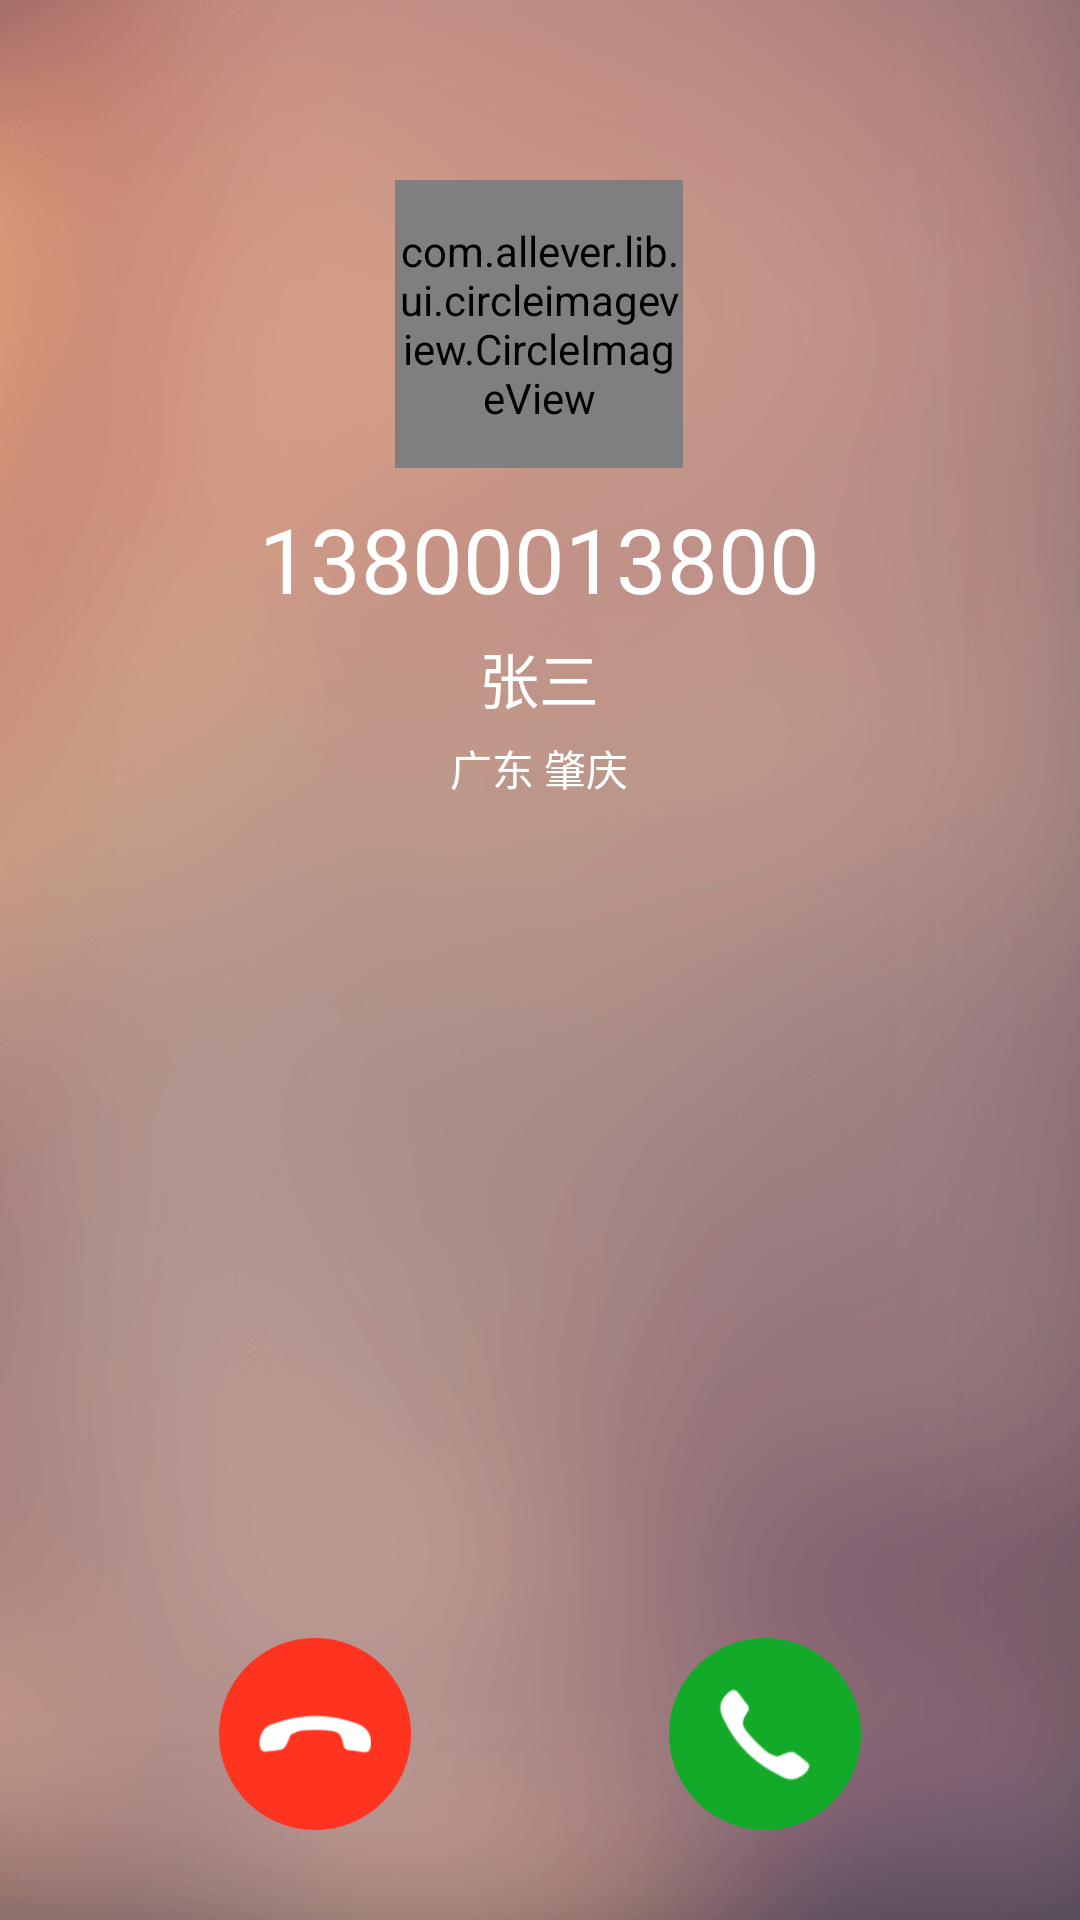

Point at icon controls on the screen. Image size 1080 × 1920, points as (x=x, y=y).
call reject: (x=315, y=1734)
